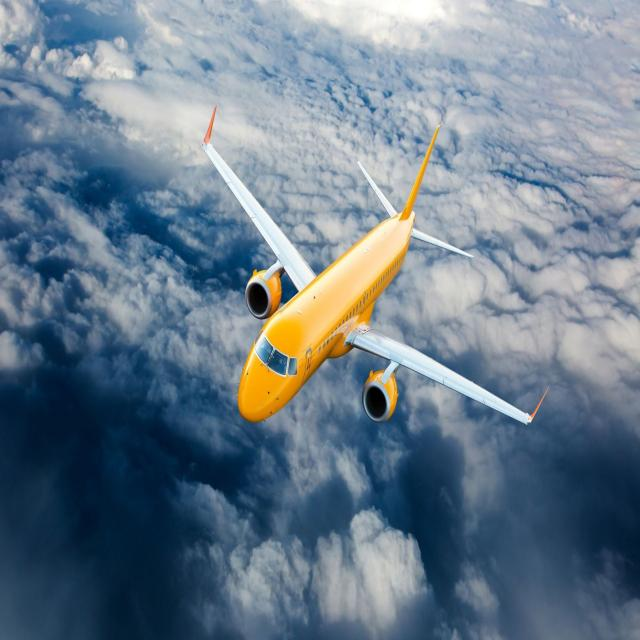plain: (196, 121, 547, 442)
